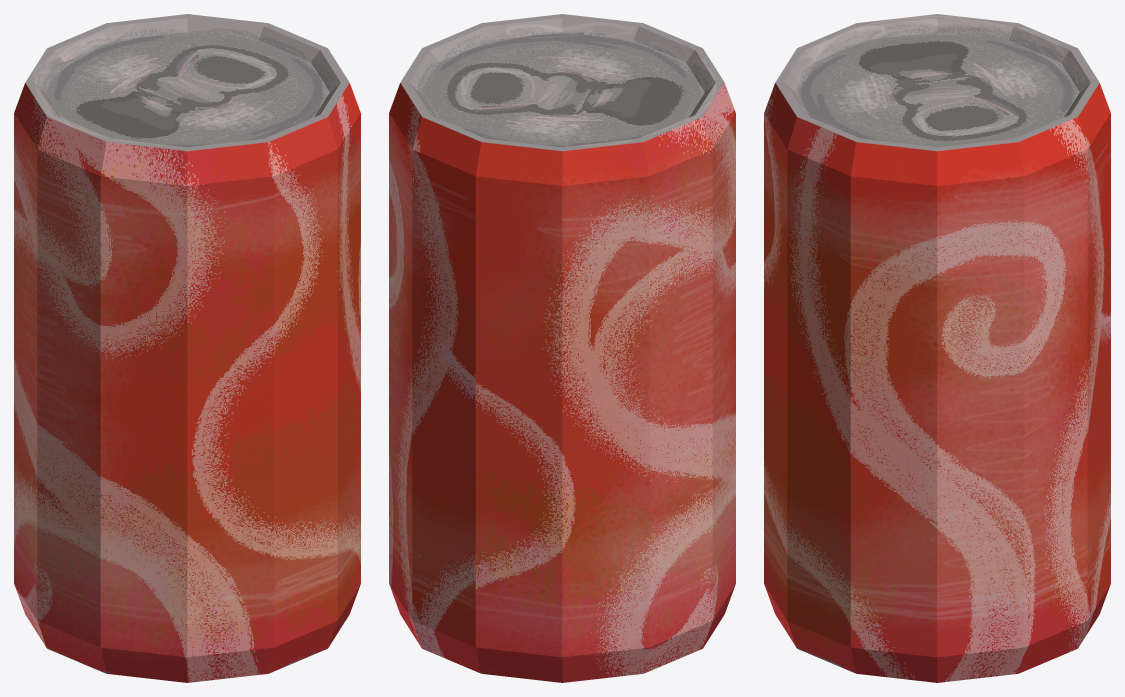
File: le can.glb
3 views of the same model, side by side, from view 1: azimuth 30°, elevation 25°; view 2: azimuth 150°, elevation 25°; view 3: azimuth 270°, elevation 25° (orthographic).
Parts seen in each view (by area): view 1: Cylinder; view 2: Cylinder; view 3: Cylinder.
Part boxes in pixels (box(x1,y1,x2,y2)): Cylinder: box(14, 14, 360, 682); Cylinder: box(389, 14, 735, 682); Cylinder: box(764, 14, 1110, 682).
Bounding box in the file's own units: 0.1 × 0.1693 × 0.1.
Materials: 1 (1 with a texture image).
